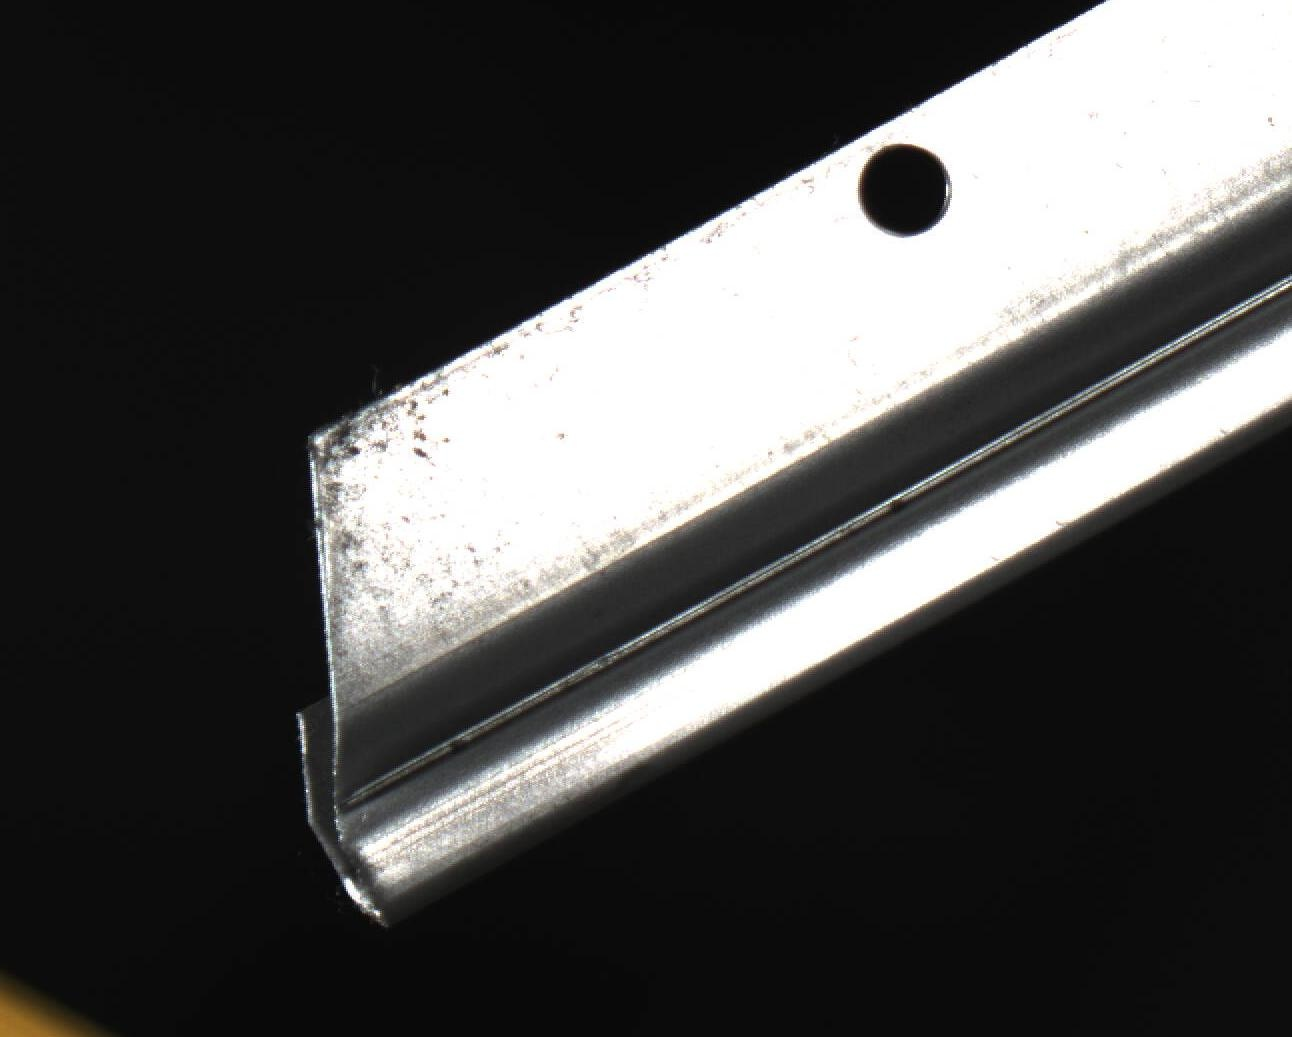cut: (237, 363, 686, 941)
holes: (857, 141, 956, 239)
